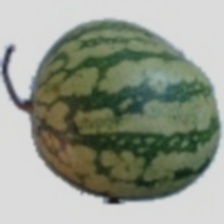watermelon: (27, 18, 210, 182)
